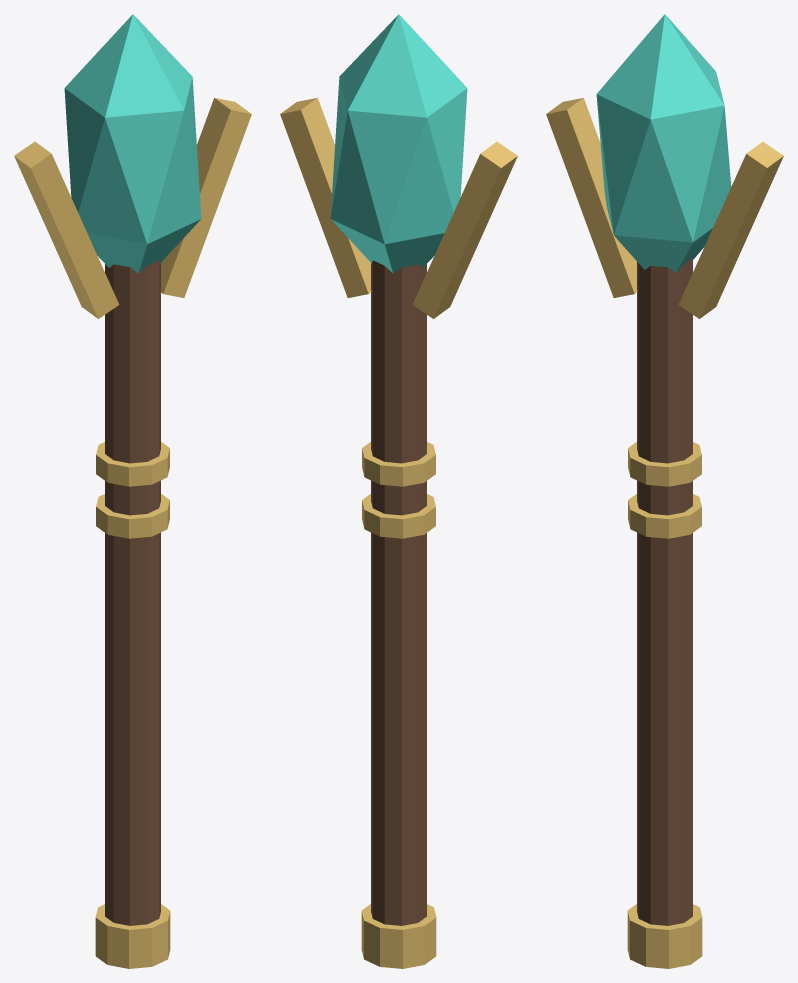
The model's file is staff-2.glb.
The picture shows the model from 3 angles, left to right: view 1: azimuth 30°, elevation 25°; view 2: azimuth 150°, elevation 25°; view 3: azimuth 330°, elevation 25°; orthographic projection.
Parts seen in each view (by area): view 1: Twisted walnut grip.001, Faceted moon crystal.001, Antler crystal cradle.002, Antler crystal cradle.003, Pommel.001, Rank gold inlay.001, Rank gold inlay.002; view 2: Twisted walnut grip.001, Faceted moon crystal.001, Antler crystal cradle.002, Antler crystal cradle.003, Pommel.001, Rank gold inlay.001, Rank gold inlay.002; view 3: Twisted walnut grip.001, Faceted moon crystal.001, Antler crystal cradle.002, Antler crystal cradle.003, Pommel.001, Rank gold inlay.001, Rank gold inlay.002.
Boxes of the visible parts, box(x1,y1,x2,y2) form: Twisted walnut grip.001: box(105, 260, 160, 925); Faceted moon crystal.001: box(64, 14, 201, 273); Antler crystal cradle.002: box(14, 141, 119, 318); Antler crystal cradle.003: box(160, 98, 251, 297); Pommel.001: box(95, 904, 170, 968); Rank gold inlay.001: box(96, 494, 169, 538); Rank gold inlay.002: box(96, 442, 169, 486); Twisted walnut grip.001: box(371, 260, 426, 925); Faceted moon crystal.001: box(330, 14, 467, 273); Antler crystal cradle.002: box(412, 141, 517, 318); Antler crystal cradle.003: box(280, 98, 371, 297); Pommel.001: box(361, 904, 436, 968); Rank gold inlay.001: box(362, 494, 435, 538); Rank gold inlay.002: box(362, 442, 435, 486); Twisted walnut grip.001: box(637, 258, 692, 925); Faceted moon crystal.001: box(596, 14, 731, 272); Antler crystal cradle.002: box(546, 98, 637, 297); Antler crystal cradle.003: box(678, 141, 783, 318); Pommel.001: box(627, 904, 702, 968); Rank gold inlay.001: box(628, 494, 701, 538); Rank gold inlay.002: box(628, 442, 701, 486).
Bounding box in the file's own units: 0.5342 × 2.17 × 0.2739.
